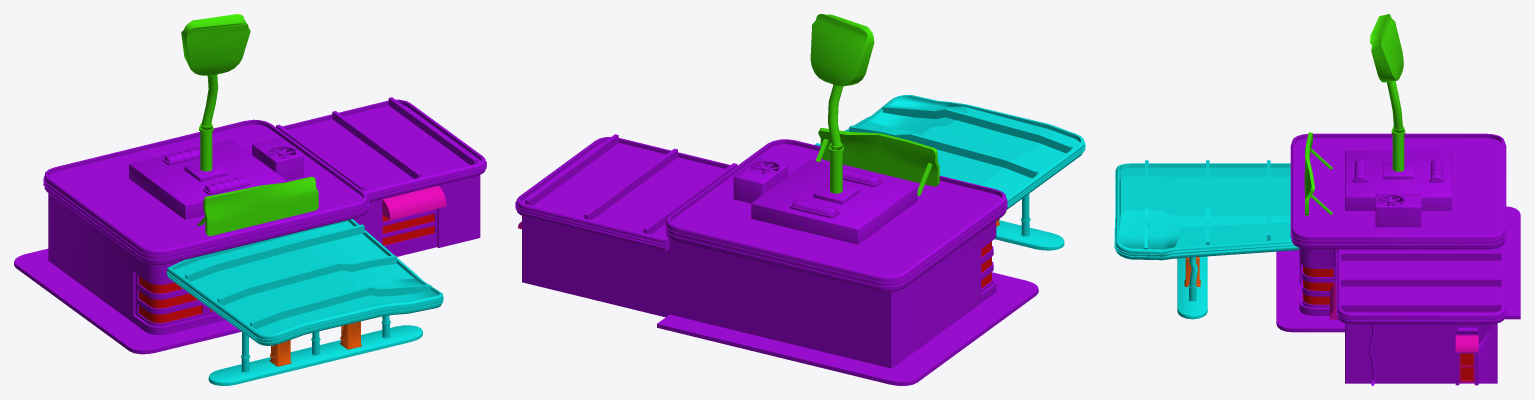
File: gas station.fbx
The picture shows the model from 3 angles, left to right: view 1: azimuth 30°, elevation 25°; view 2: azimuth 150°, elevation 25°; view 3: azimuth 270°, elevation 25°; orthographic projection. The views are drawn at different scales.
Parts seen in each view (by area): view 1: Broken; view 2: Broken; view 3: Broken, Bathroom Door.
Part boxes in pixels (<box>): Broken: <box>14,14,486,385</box>; Broken: <box>515,14,1085,385</box>; Broken: <box>1114,14,1520,385</box>; Bathroom Door: <box>1459,353,1474,382</box>.
Bounding box in the file's own units: 2026 × 1300 × 1926.
